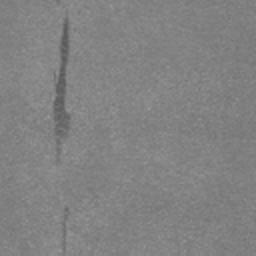Red iron sheet: (52, 12, 70, 156), (61, 206, 69, 256)
